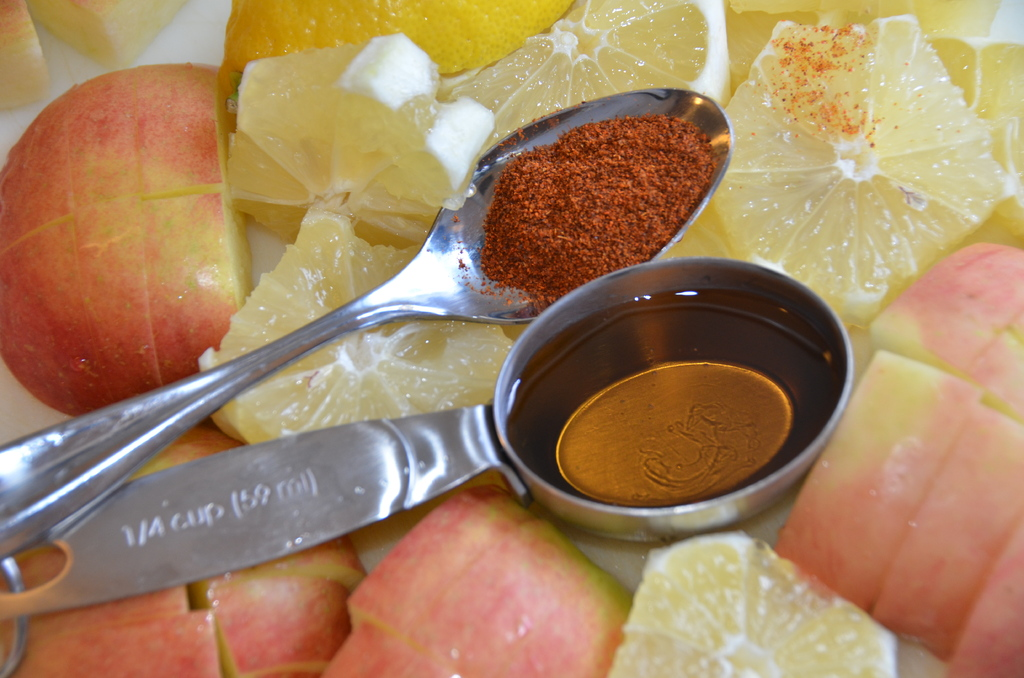Apple: (0, 423, 642, 677), (769, 236, 1023, 677), (16, 66, 241, 418)
